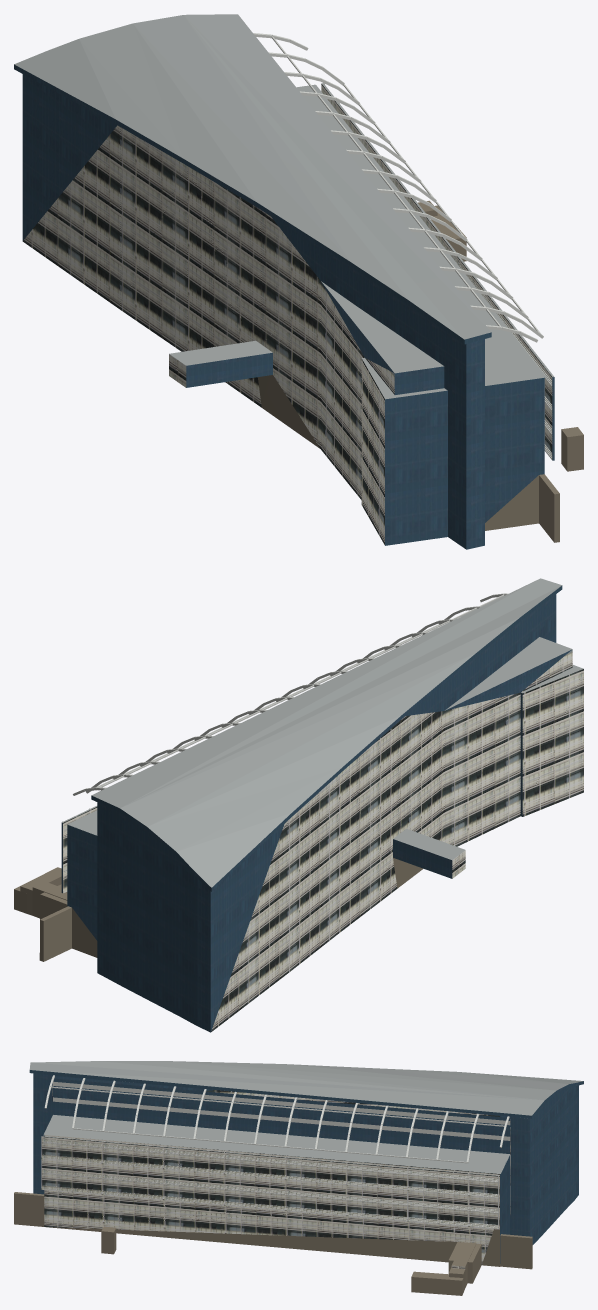
3 renders of one model, top to bottom at view 1: azimuth 30°, elevation 25°; view 2: azimuth 150°, elevation 25°; view 3: azimuth 270°, elevation 25°, orthographic. The views are drawn at different scales.
Parts seen in each view (by area): view 1: Raffles Link roof and structure, Raffles Link sunshades, Raffles Link end glazing; view 2: Raffles Link sunshades, Raffles Link roof and structure, Raffles Link end glazing; view 3: Raffles Link roof and structure, Raffles Link sunshades, Raffles Link end glazing.
Boxes of the visible parts, box(x1,y1,x2,y2) form: Raffles Link roof and structure: box(14, 14, 583, 542); Raffles Link sunshades: box(22, 84, 552, 544); Raffles Link end glazing: box(14, 64, 554, 549); Raffles Link sunshades: box(63, 649, 583, 1031); Raffles Link roof and structure: box(14, 578, 583, 961); Raffles Link end glazing: box(61, 585, 571, 1032); Raffles Link roof and structure: box(14, 1061, 583, 1295); Raffles Link sunshades: box(41, 1085, 510, 1269); Raffles Link end glazing: box(29, 1070, 583, 1263).
Bounding box in the file's own units: 84.05 × 43.63 × 165.
Materials: 3 (3 with a texture image).
